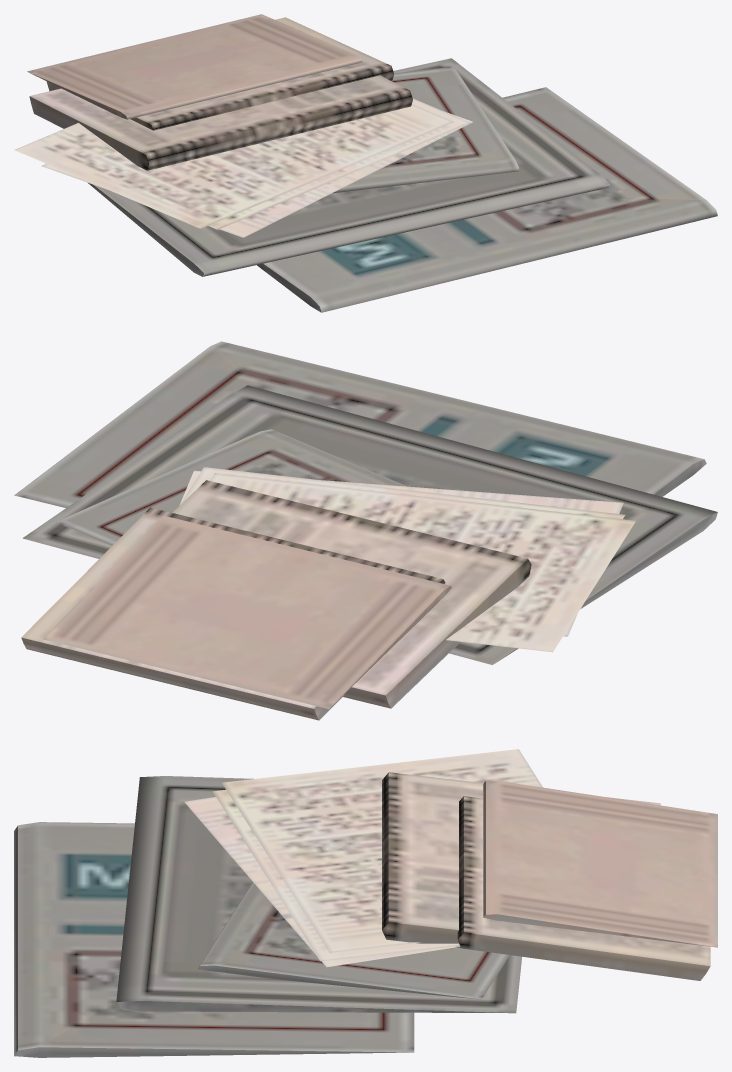
The model's file is Paper_Pile04.FBX.
3 renders of one model, top to bottom at view 1: azimuth 30°, elevation 25°; view 2: azimuth 150°, elevation 25°; view 3: azimuth 270°, elevation 25°, orthographic. The views are drawn at different scales.
Visible parts, largest first — view 1: Paper_Pile04; view 2: Paper_Pile04; view 3: Paper_Pile04.
Boxes of the visible parts, left/top/right/bottom form: Paper_Pile04: left=14, top=14, right=717, bottom=312; Paper_Pile04: left=14, top=341, right=717, bottom=720; Paper_Pile04: left=14, top=749, right=717, bottom=1057.
Bounding box in the file's own units: 0.4612 × 0.0436 × 0.496.
